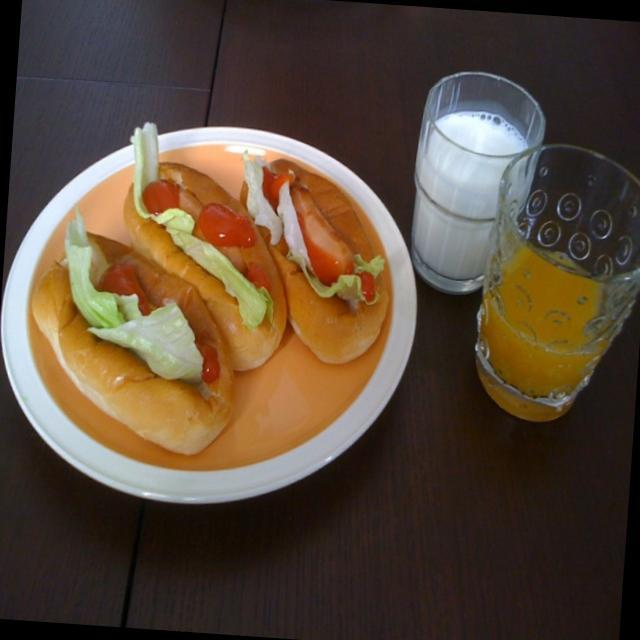Hot Dog: (0, 117, 402, 521)
